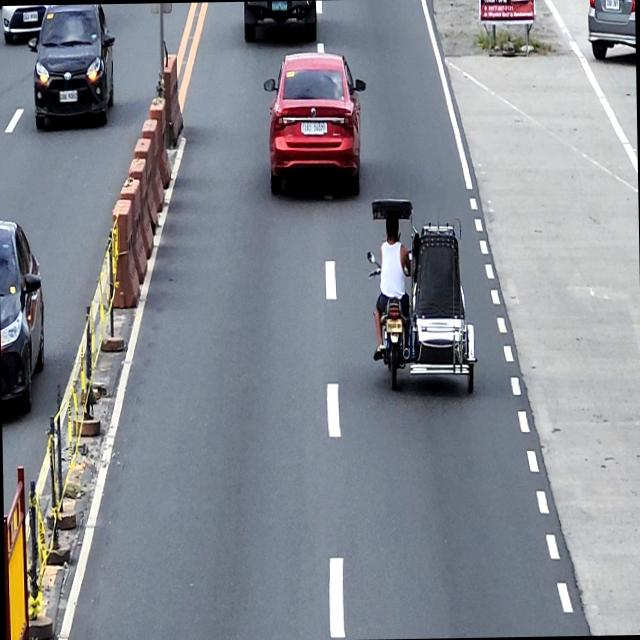Car: (262, 48, 367, 194), (26, 4, 116, 129), (0, 217, 45, 411), (242, 0, 316, 42), (586, 0, 635, 59), (0, 5, 48, 42)
License-Plate: (302, 122, 324, 134), (58, 89, 78, 102), (386, 317, 402, 333), (22, 10, 38, 22), (270, 1, 287, 10), (604, 0, 619, 10)
Tricycle: (365, 195, 477, 395)
